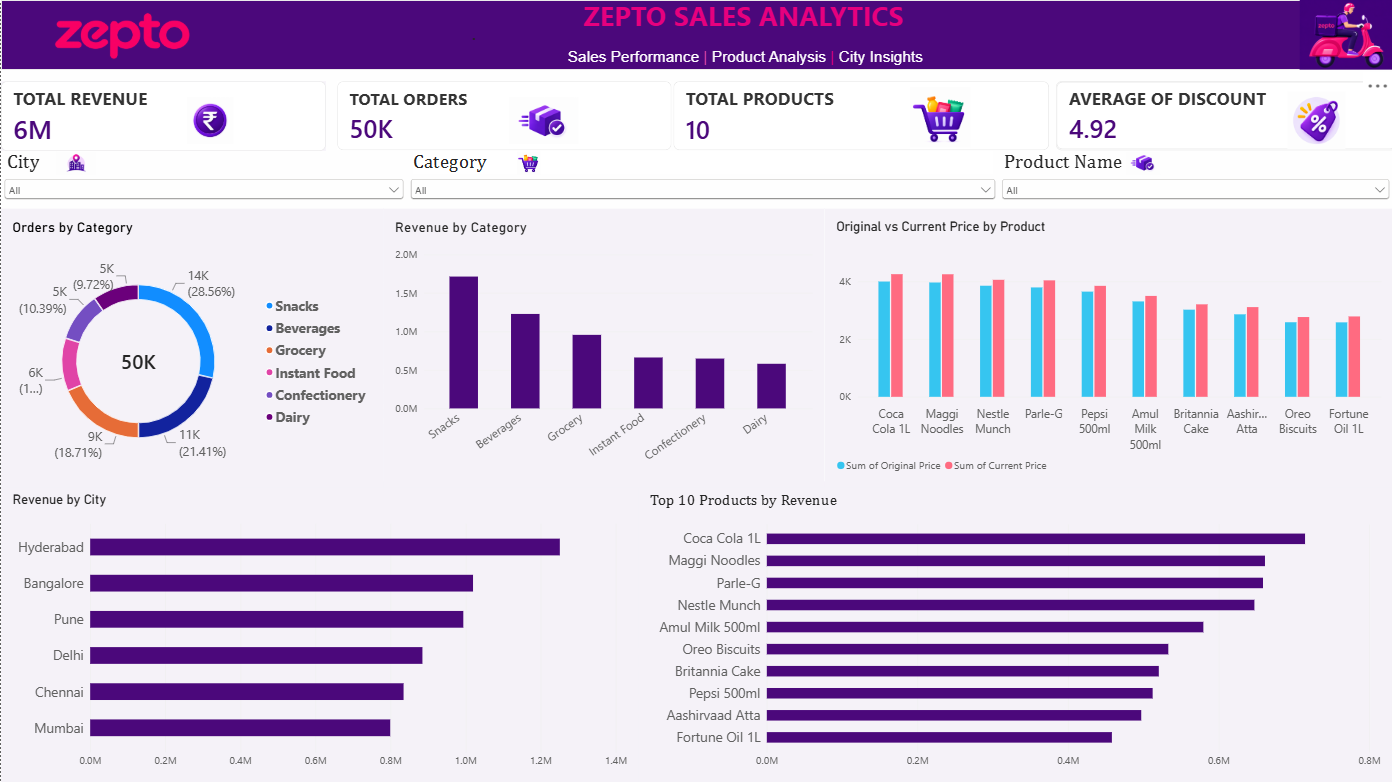

The dashboard page shown, as its layout file describes it:
{"tool":"powerbi","page":{"name":"Page 1","canvas":[1920,1080],"ordinal":0},"visuals":[{"type":"clusteredBarChart","title":"Revenue by City","fields":{"Category":["zepto_sales_dataset.City"],"Y":["Sum(zepto_sales_dataset.Total Revenue)"]},"box":[0,664,880,416],"z":0},{"type":"barChart","title":"Top 10 Products by Revenue","fields":{"Category":["zepto_sales_dataset.Product Name"],"Y":["Sum(zepto_sales_dataset.Total Revenue)"]},"box":[880,664,1040,416],"z":1000},{"type":"donutChart","title":"Orders by Category","fields":{"Category":["zepto_sales_dataset.Category"],"Y":["Sum(zepto_sales_dataset.Orders)"]},"box":[0,288,528,384],"z":2000},{"type":"clusteredColumnChart","title":"Original vs Current Price by Product","fields":{"Category":["zepto_sales_dataset.Product Name"],"Y":["Sum(zepto_sales_dataset.Original Price)","Sum(zepto_sales_dataset.Current Price)"]},"box":[1136,288,784,384],"z":3000},{"type":"clusteredColumnChart","title":"Revenue by Category","fields":{"Category":["zepto_sales_dataset.Category"],"Y":["Sum(zepto_sales_dataset.Total Revenue)"]},"box":[528,288,608,384],"z":4000},{"type":"cardVisual","fields":{"Data":["Sum(zepto_sales_dataset.Orders)"]},"box":[464,112,461.4,95.5],"z":5000},{"type":"cardVisual","fields":{"Data":["Count(zepto_sales_dataset.Product Name)"]},"box":[928,112,518.2,95.5],"z":6000},{"type":"cardVisual","fields":{"Data":["Avg(zepto_sales_dataset.Discount)"]},"box":[1456,112,470.5,95.5],"z":7000},{"type":"slicer","fields":{"Values":["zepto_sales_dataset.Category"]},"box":[560,208,816,80],"z":8000},{"type":"slicer","fields":{"Values":["zepto_sales_dataset.Product Name"]},"box":[1376,208,544,80],"z":9000},{"type":"cardVisual","fields":{"Data":["Sum(zepto_sales_dataset.Total Revenue)"]},"box":[0,112,448,96],"z":10000},{"type":"textbox","box":[0,0,1920,96],"z":11000},{"type":"image","box":[230,134,118,64],"z":12000},{"type":"image","box":[654,134,190,64],"z":13000},{"type":"image","box":[1244,120,101,83],"z":14000},{"type":"image","box":[1756,126,118,80],"z":15000},{"type":"image","box":[1552,208,48,32],"z":16000},{"type":"image","box":[688,208,80,32],"z":17000},{"type":"image","box":[0,0,336,96],"z":18000},{"type":"image","box":[1792,0,128,96],"z":19000},{"type":"slicer","fields":{"Values":["zepto_sales_dataset.City"]},"box":[0,208,560,80],"z":20000},{"type":"image","box":[64,208,80,32],"z":21000}]}

Visuals, with their boxes in screenshot pixels (x1, y1, x2, y2), scaled from the page's 1920x1080 canvas onto the 1392x782 screenshot:
"Revenue by City" clusteredBarChart: region(0, 481, 638, 781)
"Top 10 Products by Revenue" barChart: region(638, 481, 1391, 781)
"Orders by Category" donutChart: region(0, 209, 383, 487)
"Original vs Current Price by Product" clusteredColumnChart: region(824, 209, 1391, 487)
"Revenue by Category" clusteredColumnChart: region(383, 209, 824, 487)
cardVisual - Sum(zepto_sales_dataset.Orders): region(336, 81, 671, 150)
cardVisual - Count(zepto_sales_dataset.Product Name): region(673, 81, 1048, 150)
cardVisual - Avg(zepto_sales_dataset.Discount): region(1056, 81, 1391, 150)
slicer - zepto_sales_dataset.Category: region(406, 151, 998, 209)
slicer - zepto_sales_dataset.Product Name: region(998, 151, 1391, 209)
cardVisual - Sum(zepto_sales_dataset.Total Revenue): region(0, 81, 325, 151)
textbox: region(0, 0, 1391, 70)
image: region(167, 97, 252, 143)
image: region(474, 97, 612, 143)
image: region(902, 87, 975, 147)
image: region(1273, 91, 1359, 149)
image: region(1125, 151, 1160, 174)
image: region(499, 151, 557, 174)
image: region(0, 0, 244, 70)
image: region(1299, 0, 1391, 70)
slicer - zepto_sales_dataset.City: region(0, 151, 406, 209)
image: region(46, 151, 104, 174)
